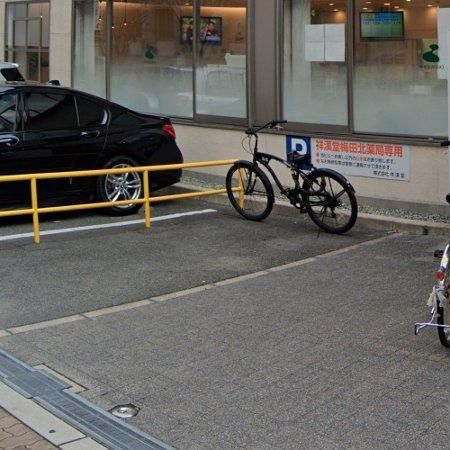bicycles: (226, 120, 359, 234)
